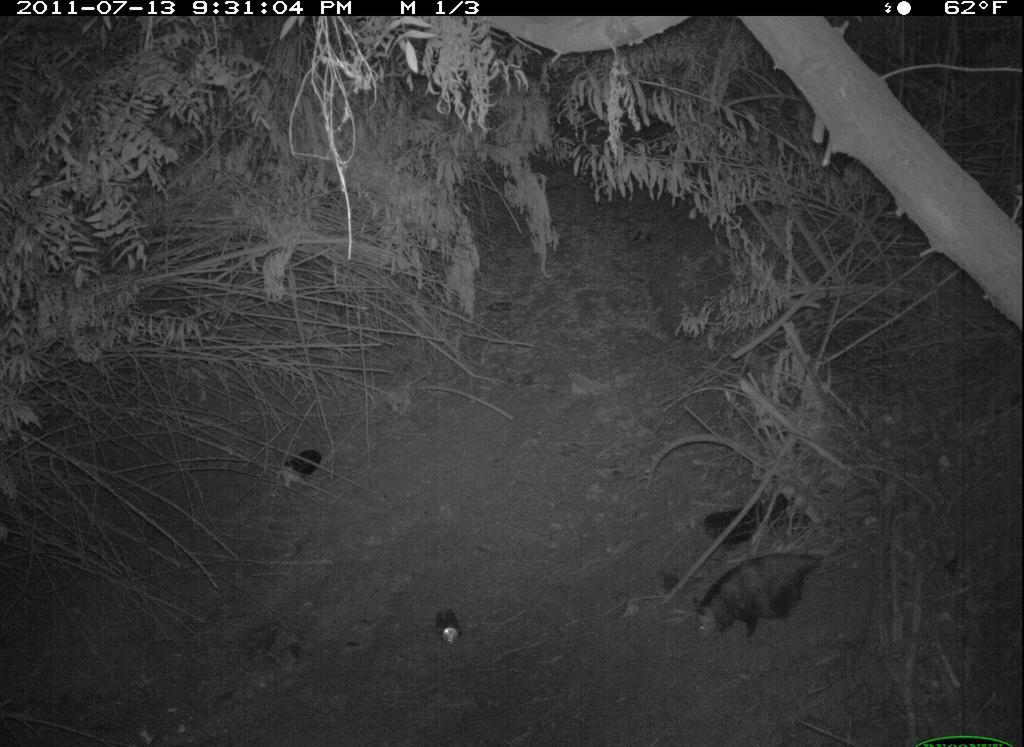opossum: (687, 548, 826, 644)
